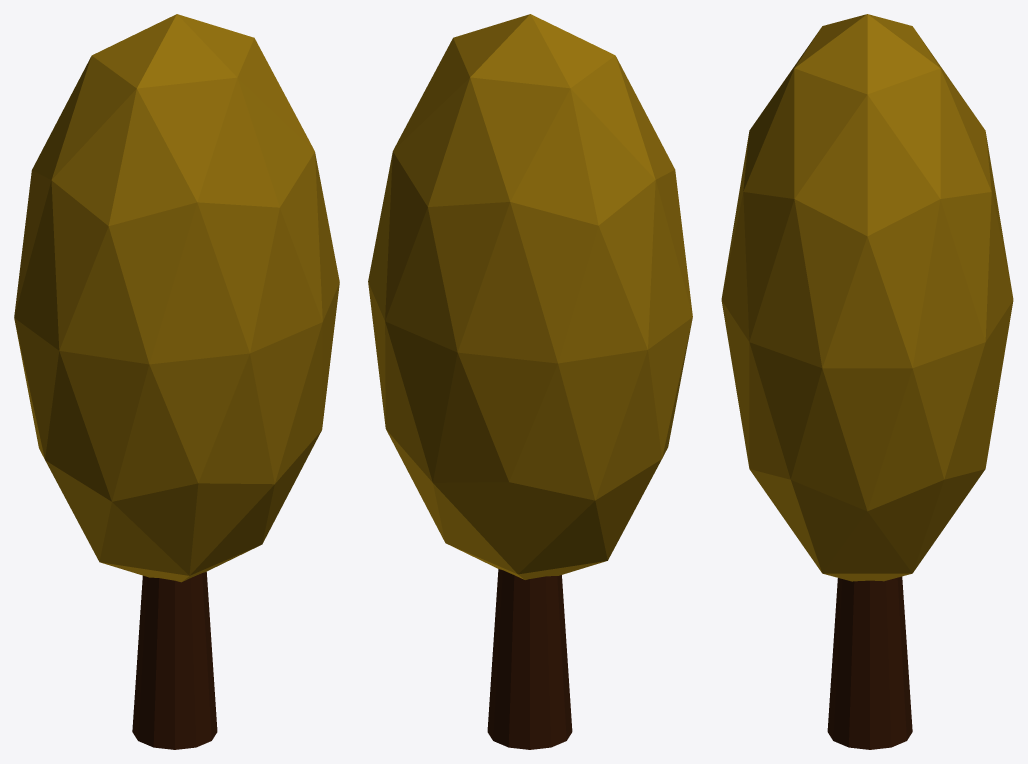
Rendered from TreeBeta2.fbx.
3 renders of one model, left to right at view 1: azimuth 30°, elevation 25°; view 2: azimuth 150°, elevation 25°; view 3: azimuth 270°, elevation 25°, orthographic.
Parts seen in each view (by area): view 1: Icosphere.002; view 2: Icosphere.002; view 3: Icosphere.002.
Boxes of the visible parts, x1=… form: Icosphere.002: x1=14, y1=14, x2=339, y2=749; Icosphere.002: x1=368, y1=14, x2=692, y2=749; Icosphere.002: x1=721, y1=14, x2=1013, y2=749.
Bounding box in the file's own units: 322 × 787 × 290.
